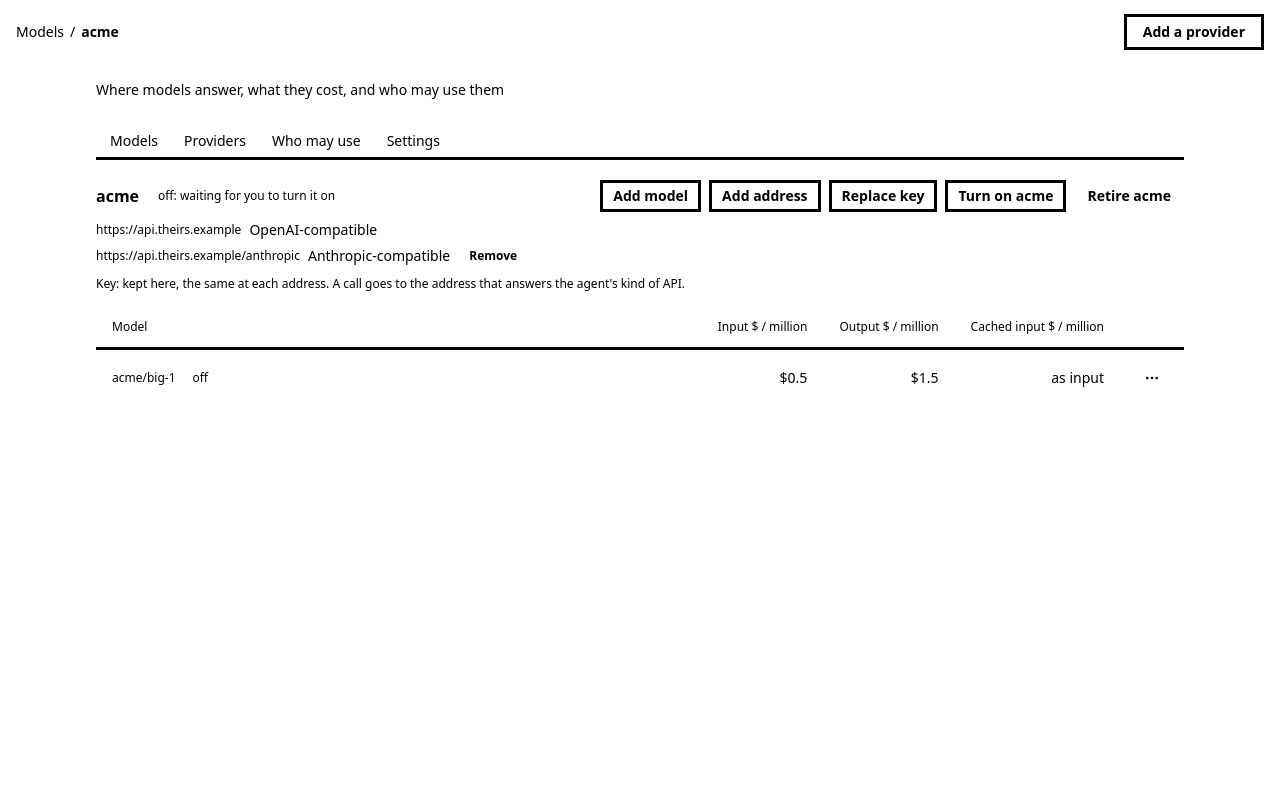
Test: one provider of the organization's › adds a model with its prices, and another address of a kind
This screenshot has width=1280, height=800.
Later steps or results of the test are not shown.
Click the button "Add model".
click(651, 196)  # box [600,180,701,212]
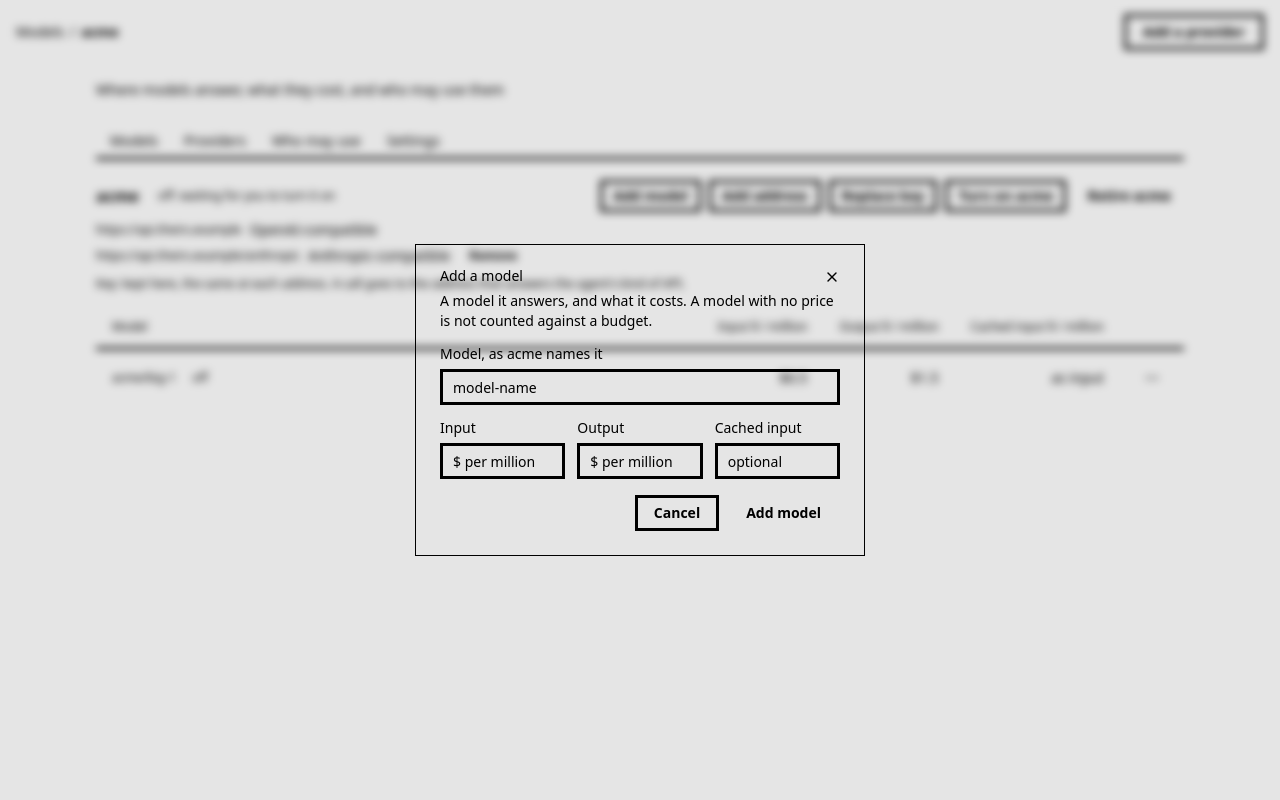
Check: the field labelled "Model, as acme names it" is shown, box [440,369,840,405]
